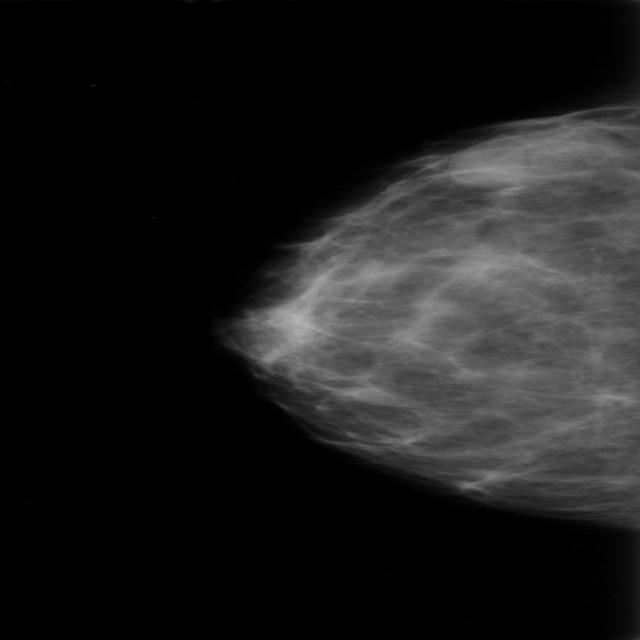tumour: (445, 127, 628, 186)
